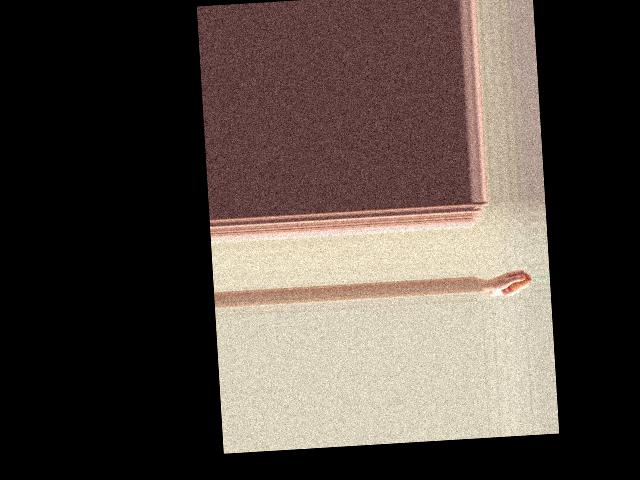egg: (508, 275, 529, 292)
